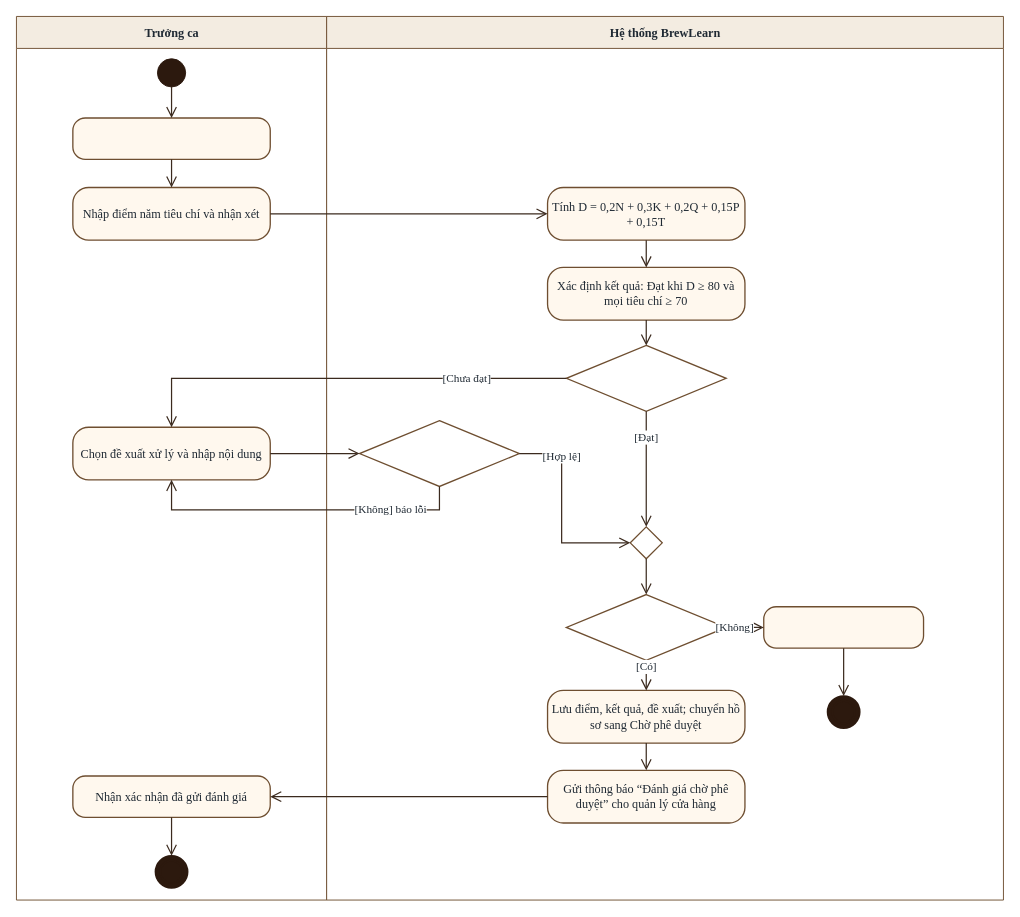
This 1020x917 diagram has some shape labels left out. The shapes that lost their labels are listed below. From the top down, each one's box as (x1, y1, x2, y2) in pixels, then its label:
(72, 117, 270, 160): Mở lịch đánh giá cần chấm
(565, 344, 726, 411): Kết quả?
(358, 420, 520, 487): Đề xuất hợp lệ?
(565, 593, 726, 661): Hồ sơ đang chờ đánh giá hoặc bị trả lại?
(763, 606, 924, 648): Báo hồ sơ đã gửi hoặc đã duyệt
